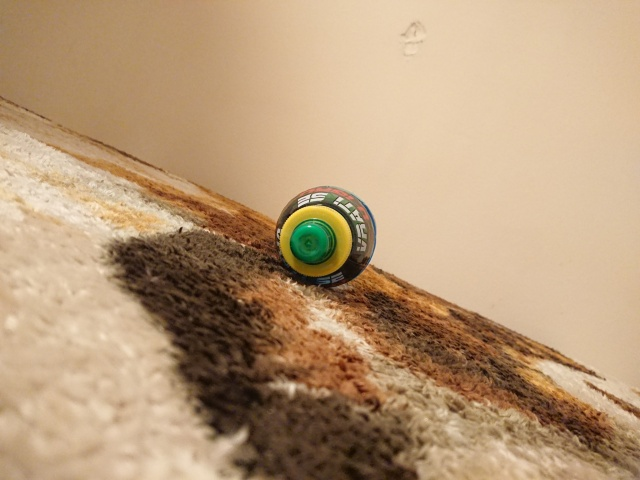Vindi Iso Sport Forest Strawberries 500mL: (272, 183, 379, 291)
